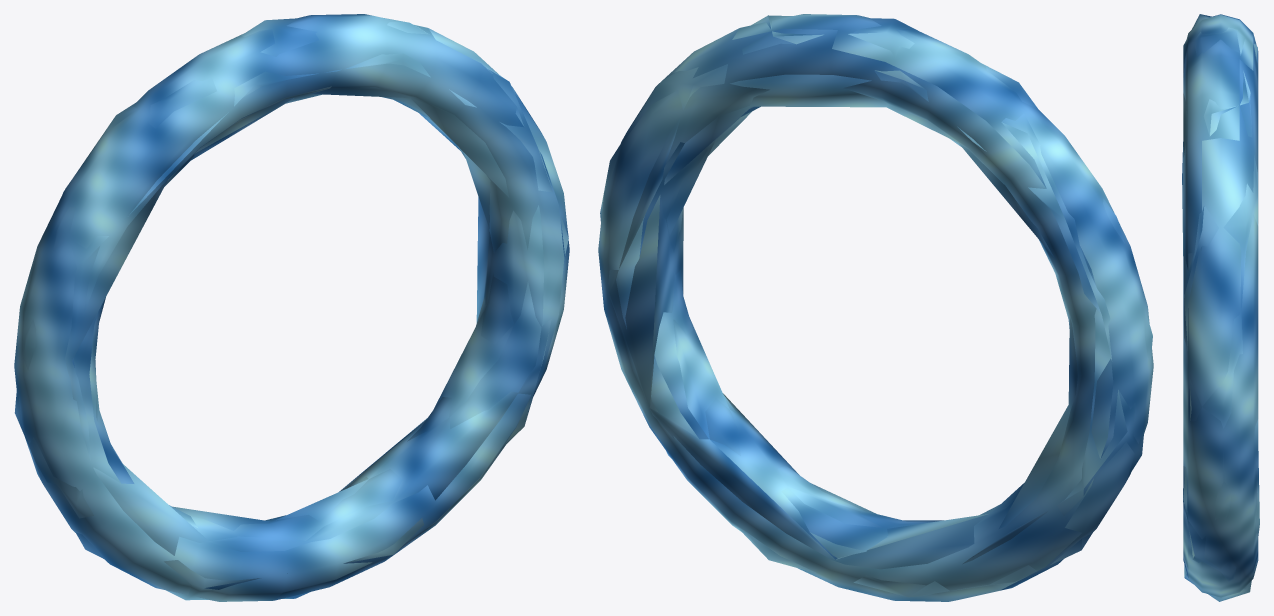
The model's file is cell_current_glyph.fbx.
3 renders of one model, left to right at view 1: azimuth 30°, elevation 25°; view 2: azimuth 150°, elevation 25°; view 3: azimuth 270°, elevation 25°, orthographic. The views are drawn at different scales.
Visible parts, largest first — view 1: cell_current_glyph_VIS, cell_current_glyph_COL; view 2: cell_current_glyph_VIS, cell_current_glyph_COL; view 3: cell_current_glyph_VIS, cell_current_glyph_COL.
Part boxes in pixels (x1,y1,x2,y2): cell_current_glyph_VIS: (14, 14, 569, 601); cell_current_glyph_COL: (14, 18, 568, 600); cell_current_glyph_VIS: (598, 14, 1153, 601); cell_current_glyph_COL: (600, 15, 1152, 597); cell_current_glyph_VIS: (1183, 14, 1258, 597); cell_current_glyph_COL: (1182, 14, 1259, 601).
Bounding box in the file's own units: 78.31 × 78.39 × 10.38.
